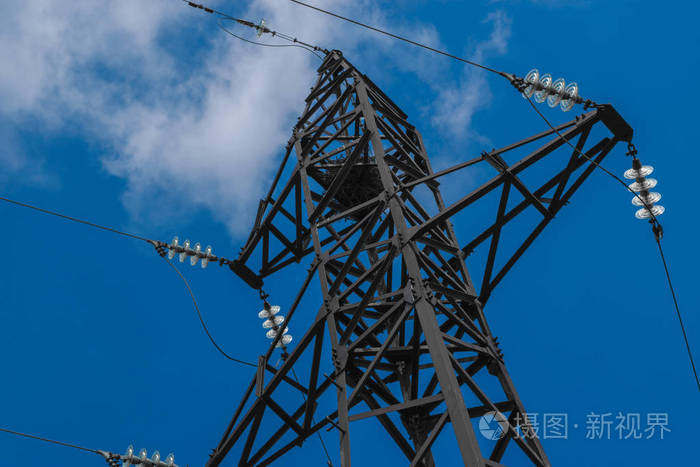insulator: (521, 67, 578, 112), (624, 165, 665, 220), (167, 233, 213, 271), (259, 306, 292, 350), (123, 445, 178, 467)
